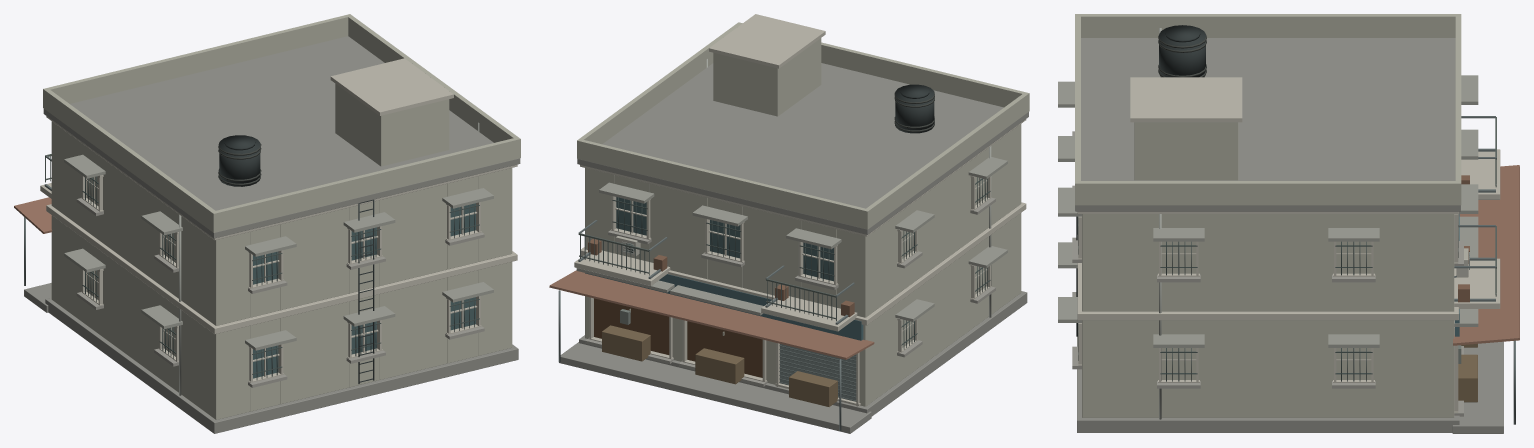
Rendered from shop_house.glb.
3 renders of one model, left to right at view 1: azimuth 30°, elevation 25°; view 2: azimuth 150°, elevation 25°; view 3: azimuth 270°, elevation 25°, orthographic. The views are drawn at different scales.
Visible parts, largest first — view 1: shop_house; view 2: shop_house; view 3: shop_house.
Boxes of the visible parts, left/top/right/bottom form: shop_house: left=14, top=14, right=520, bottom=433; shop_house: left=549, top=14, right=1029, bottom=433; shop_house: left=1058, top=14, right=1519, bottom=433.
Bounding box in the file's own units: 11.73 × 8.66 × 12.4.
